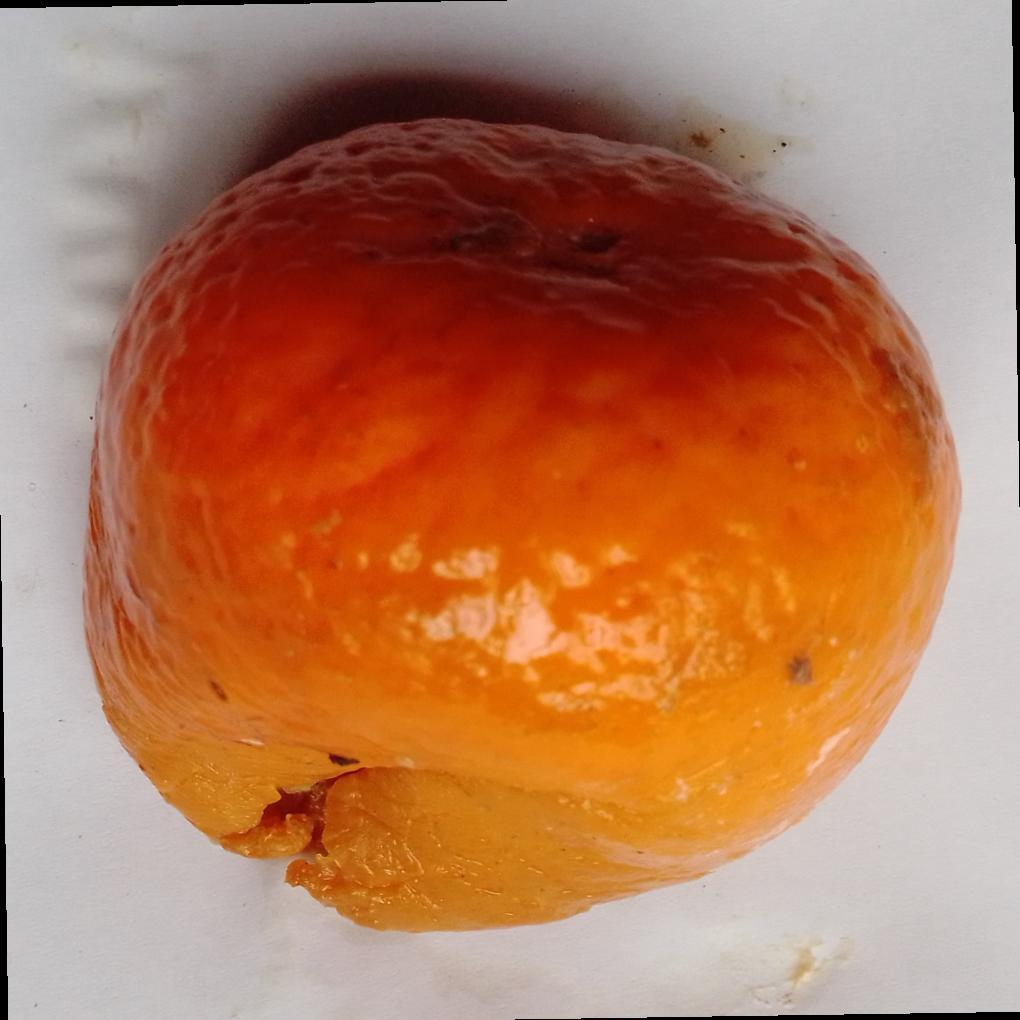FreshOrange: (81, 117, 964, 937)
